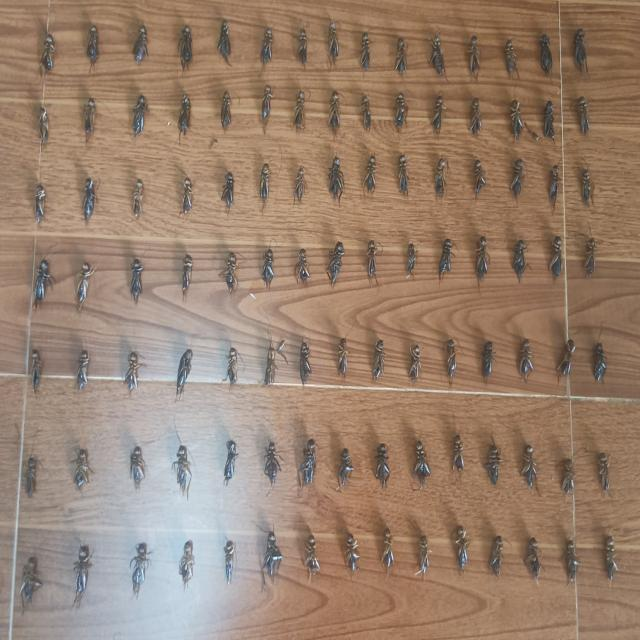no egg: (263, 547, 283, 583), (220, 262, 239, 298), (370, 456, 392, 487), (173, 460, 192, 495), (522, 550, 544, 579), (327, 166, 345, 201), (131, 557, 147, 596), (363, 248, 379, 285), (562, 552, 581, 583), (173, 362, 192, 392), (414, 546, 433, 575), (327, 250, 341, 289), (262, 356, 278, 390), (488, 546, 505, 578), (20, 574, 36, 608), (301, 549, 319, 579), (300, 453, 318, 483), (327, 101, 342, 136), (75, 562, 88, 602), (72, 459, 87, 493), (83, 191, 97, 227), (298, 349, 312, 385), (261, 455, 279, 483), (468, 104, 484, 135), (127, 271, 143, 302), (74, 360, 90, 391), (521, 457, 537, 488), (474, 251, 489, 284), (335, 462, 354, 488), (517, 353, 534, 382), (456, 543, 473, 572), (344, 546, 361, 575), (590, 354, 608, 381), (128, 462, 146, 489), (556, 351, 572, 381), (437, 248, 451, 282), (406, 356, 423, 384), (413, 454, 430, 482), (222, 359, 240, 385), (509, 168, 524, 199), (372, 352, 387, 383), (295, 258, 311, 287), (37, 115, 51, 148), (124, 361, 138, 394), (77, 273, 90, 308), (478, 354, 494, 382), (88, 34, 100, 71), (327, 30, 340, 64), (484, 456, 501, 482), (513, 251, 528, 280), (602, 552, 617, 581), (134, 33, 148, 64), (583, 249, 597, 280), (508, 113, 524, 140), (431, 101, 444, 134), (177, 37, 194, 62), (34, 273, 46, 308), (182, 186, 195, 218), (222, 180, 235, 212), (181, 264, 193, 298), (257, 179, 271, 208), (573, 40, 587, 69), (42, 42, 55, 73), (30, 362, 43, 393), (133, 186, 144, 222), (382, 543, 396, 571), (24, 472, 38, 500), (219, 32, 232, 62), (177, 107, 190, 137), (551, 248, 564, 278), (404, 251, 417, 281), (337, 348, 350, 378), (84, 107, 95, 142), (294, 101, 306, 133), (548, 175, 560, 207), (450, 446, 466, 470), (180, 555, 192, 587), (296, 37, 310, 64), (261, 259, 275, 286), (294, 175, 307, 204), (505, 49, 518, 78), (222, 456, 235, 485), (132, 107, 144, 138), (260, 36, 272, 67), (360, 104, 374, 130), (541, 45, 554, 73), (445, 354, 458, 382), (598, 466, 611, 494), (222, 553, 236, 579), (361, 40, 372, 72), (561, 472, 576, 494), (581, 179, 594, 204), (473, 170, 486, 195), (34, 196, 46, 223), (469, 45, 480, 74), (398, 168, 409, 197), (432, 48, 444, 74), (220, 102, 231, 130), (543, 112, 554, 140), (366, 164, 375, 196), (578, 109, 590, 133), (261, 95, 272, 121), (434, 173, 447, 195), (395, 49, 407, 71), (396, 105, 404, 130)
